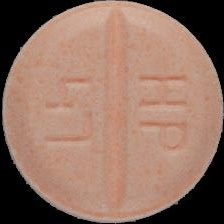10544-047: (0, 0, 224, 224)
